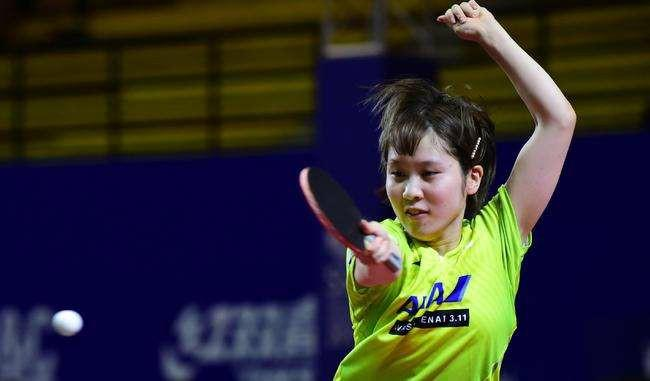ball: (47, 306, 86, 338)
